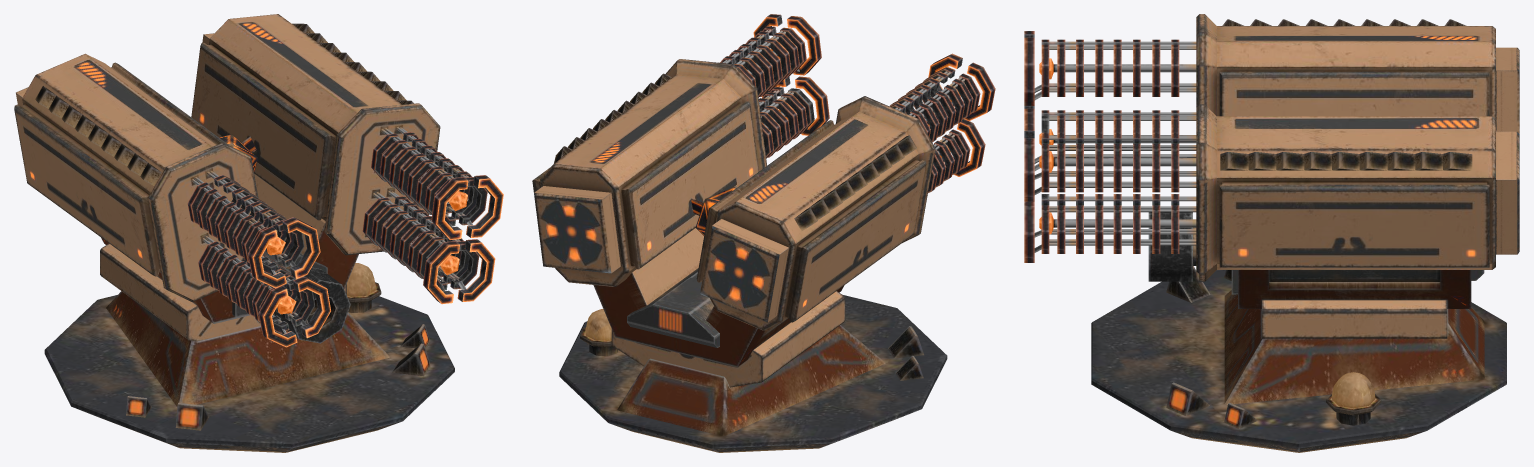
File: turret.glb
3 views of the same model, side by side, from view 1: azimuth 30°, elevation 25°; view 2: azimuth 150°, elevation 25°; view 3: azimuth 270°, elevation 25° (orthographic). The views are drawn at different scales.
Parts seen in each view (by area): view 1: turret; view 2: turret; view 3: turret.
Part boxes in pixels (bbox=[...]): turret: bbox=[14, 14, 503, 452]; turret: bbox=[532, 14, 995, 452]; turret: bbox=[1024, 14, 1519, 452].
Size of the model in its own units: 0.8826 by 0.6835 by 1.
1 material, 1 textured.
